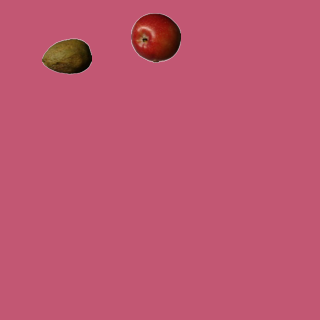Apple Braeburn: (130, 12, 180, 62)
Papaya: (41, 31, 91, 81)
